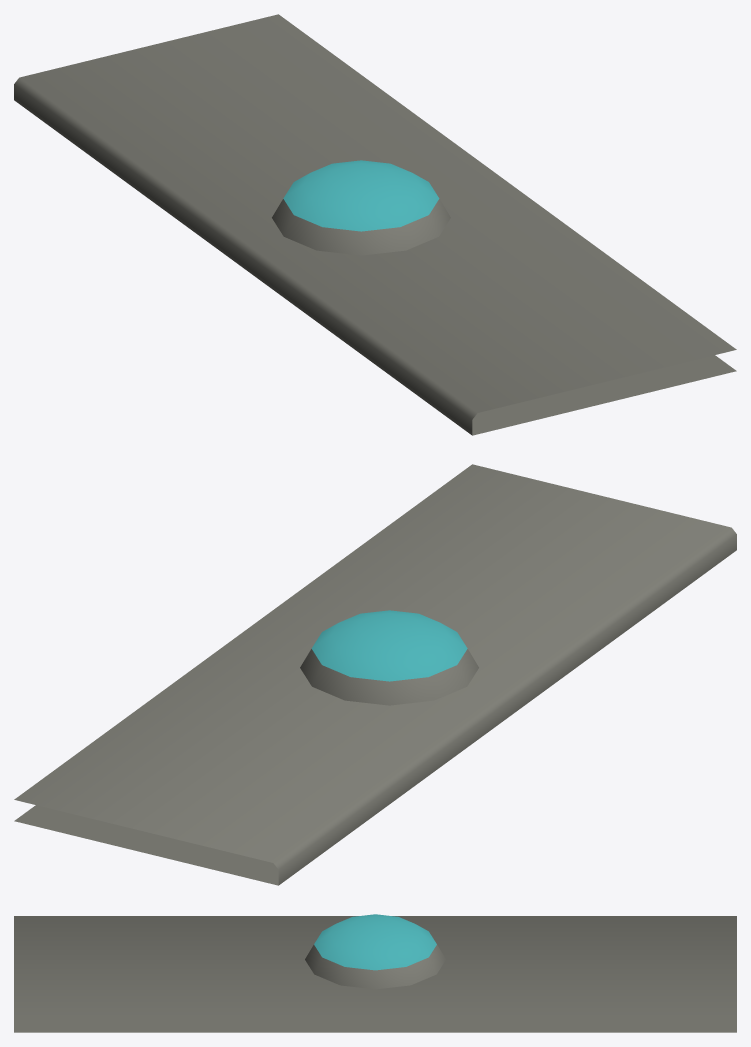
The model's file is CA_115_116_cosmodrome_floor_limits.glb.
3 renders of one model, top to bottom at view 1: azimuth 30°, elevation 25°; view 2: azimuth 150°, elevation 25°; view 3: azimuth 270°, elevation 25°, orthographic. The views are drawn at different scales.
Visible parts, largest first — view 1: cosmodrome_floor; view 2: cosmodrome_floor; view 3: cosmodrome_floor.
Boxes of the visible parts, bbox=[...] form: cosmodrome_floor: bbox=[14, 14, 736, 435]; cosmodrome_floor: bbox=[14, 464, 736, 885]; cosmodrome_floor: bbox=[14, 914, 736, 1032].
Size of the model in its own units: 0.75 by 0.1765 by 2.25.
